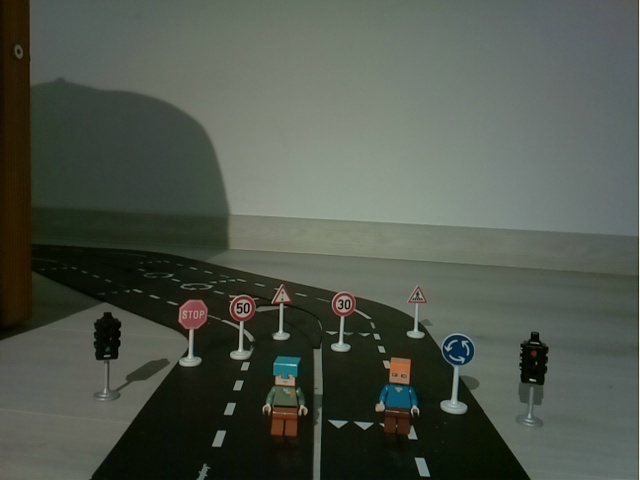green light: (88, 308, 129, 405)
limit 30: (329, 289, 358, 354)
limit 50: (224, 293, 259, 361)
pedestrian sign: (402, 281, 432, 341)
person: (264, 353, 311, 447), (374, 356, 424, 444)
red light: (512, 321, 565, 437)
round: (439, 330, 478, 421)
stop: (168, 295, 214, 371)
traffic light sign: (268, 281, 294, 345)
